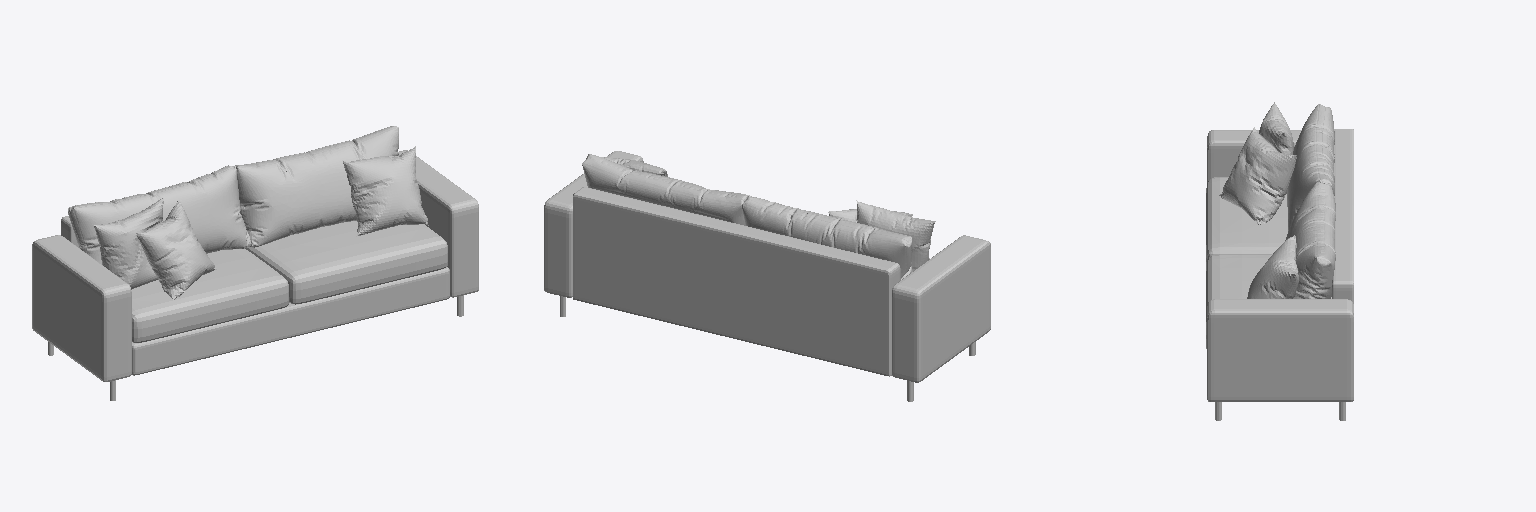
File: sofa.obj
3 renders of one model, left to right at view 1: azimuth 30°, elevation 25°; view 2: azimuth 150°, elevation 25°; view 3: azimuth 270°, elevation 25°, orthographic.
Parts seen in each view (by area): view 1: sofa_model; view 2: sofa_model; view 3: sofa_model.
Boxes of the visible parts, box(x1,y1,x2,y2) form: sofa_model: box(32, 126, 478, 400); sofa_model: box(544, 151, 990, 401); sofa_model: box(1206, 102, 1353, 420).
Size of the model in its own units: 197 by 79.18 by 67.55.